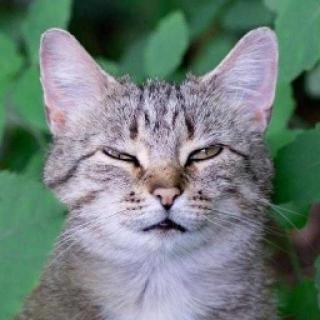cat: (35, 25, 278, 253)
nose: (142, 169, 187, 216)
